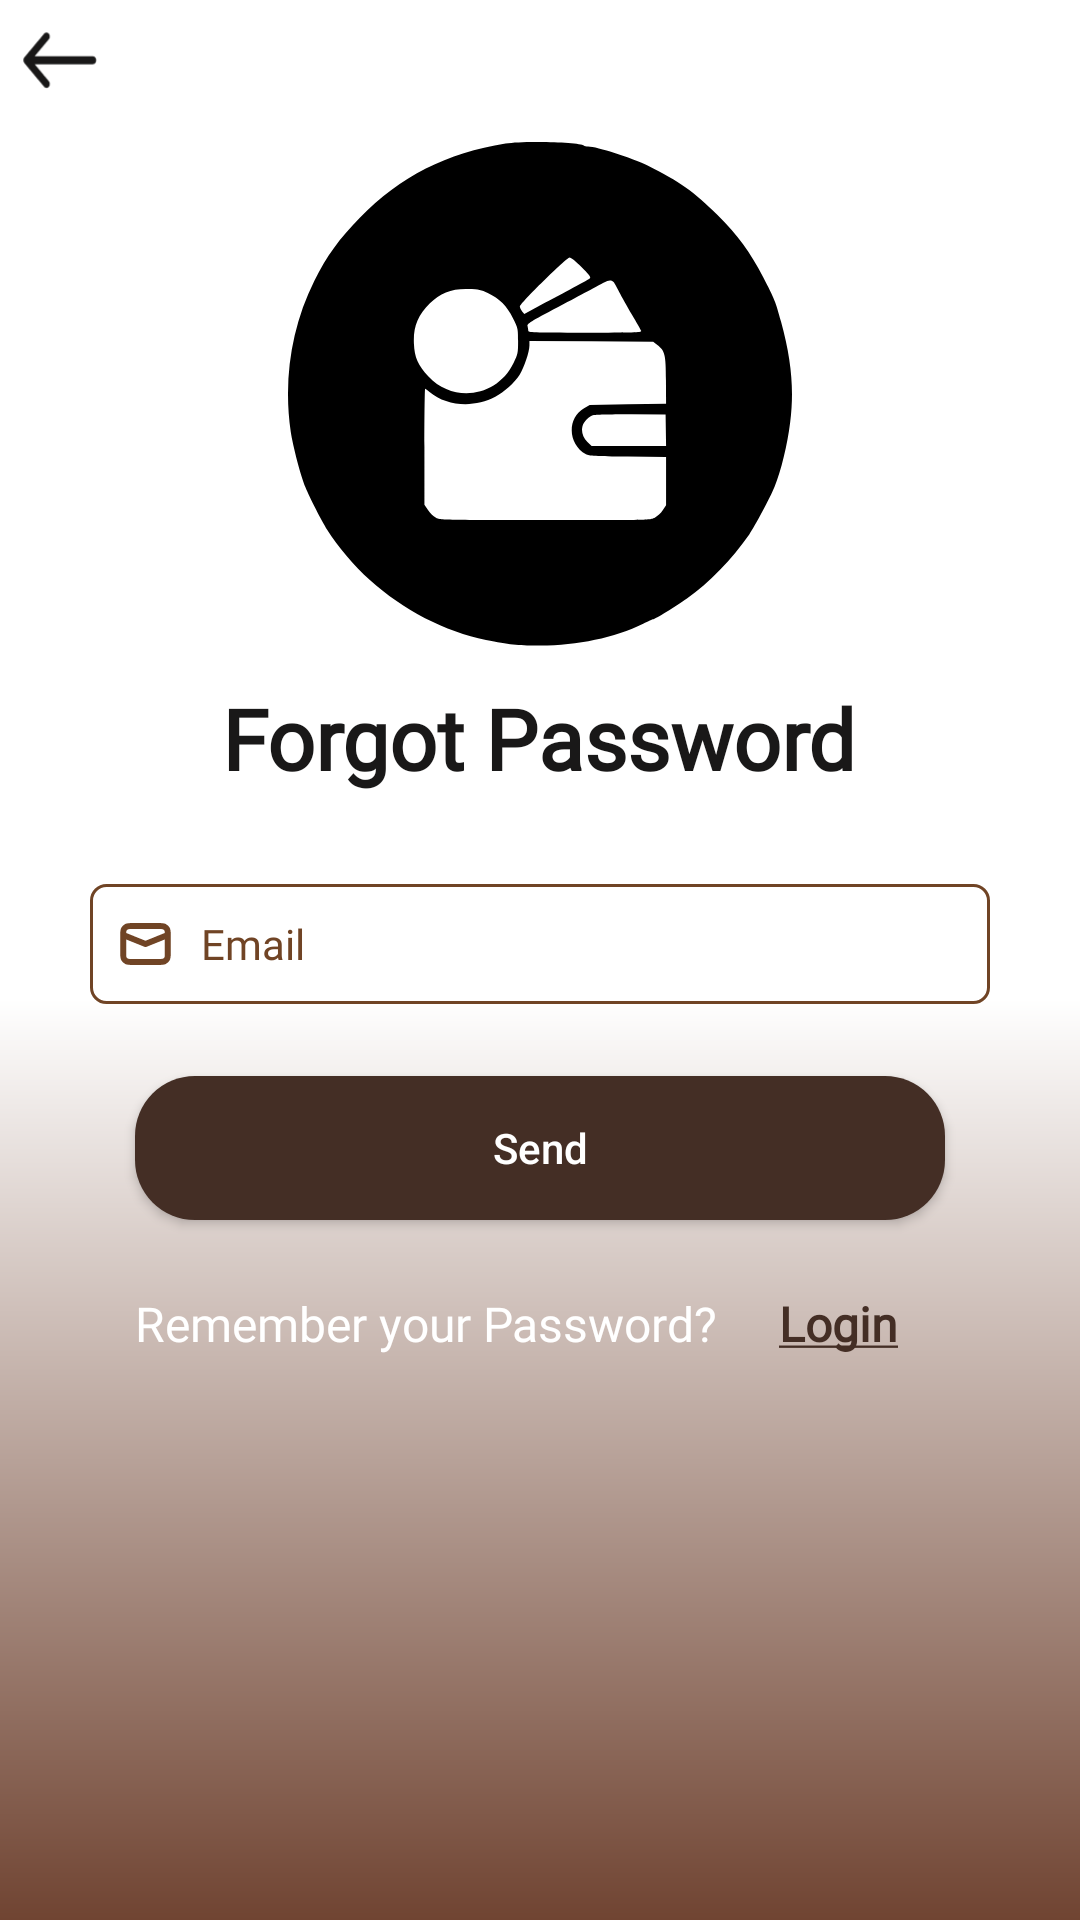

Point at icon controls on the screen. Image size 1080×1920, points as point (x, y).
left arrow: point (60, 60)
